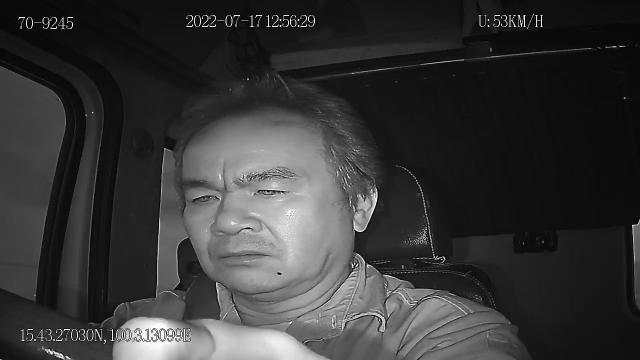SafeDriving: (243, 176, 299, 204), (181, 181, 225, 211)
Seatbelt: (180, 270, 224, 324)
